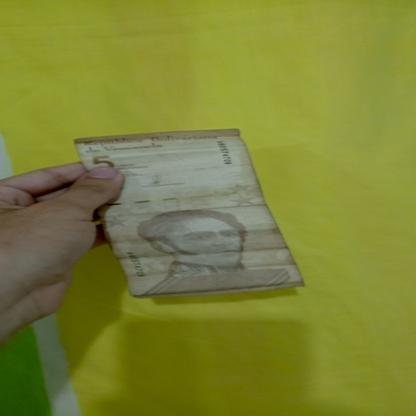five-front-vef: (74, 127, 304, 296)
